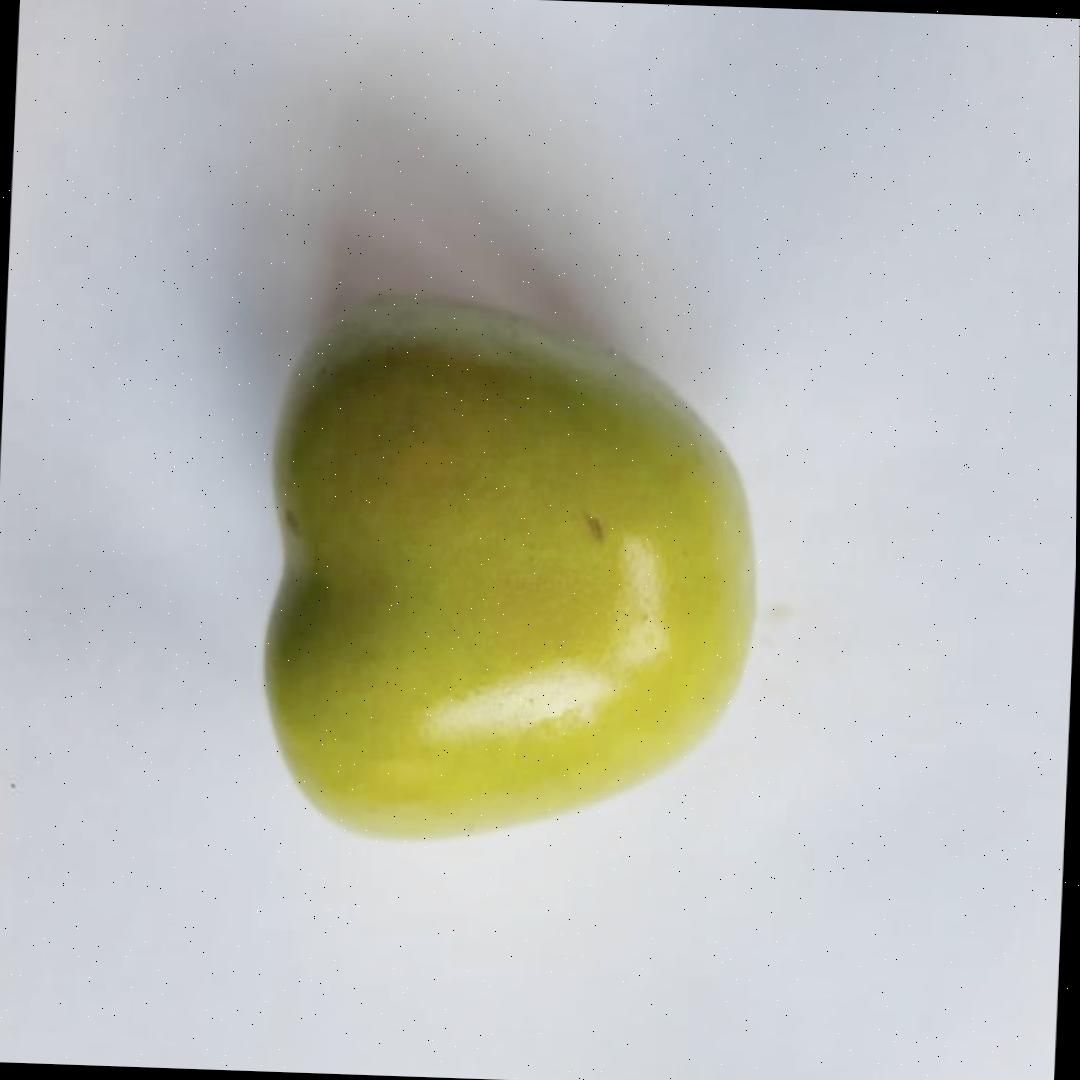mentah: (254, 286, 771, 854)
